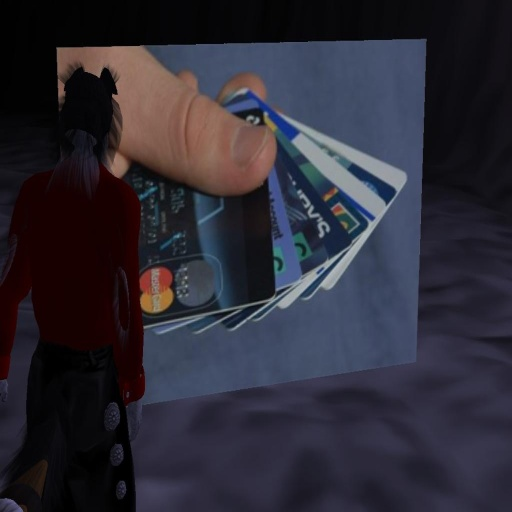hand: (55, 42, 276, 198), (128, 399, 143, 442), (0, 382, 7, 403)
